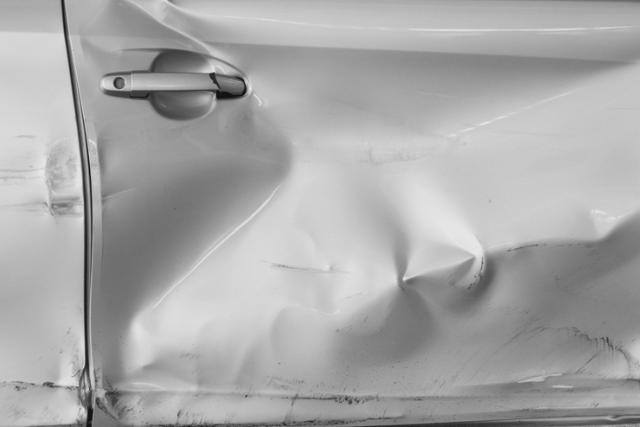Door: (87, 13, 640, 427), (0, 131, 85, 427)
